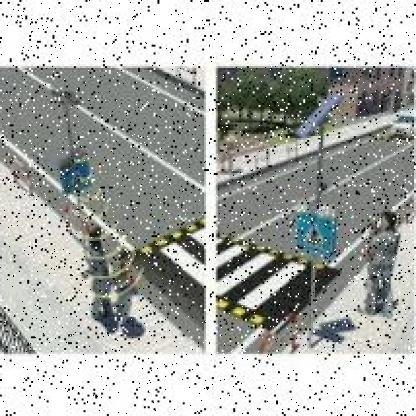Pedestrian Crossing: (298, 213, 341, 261)
